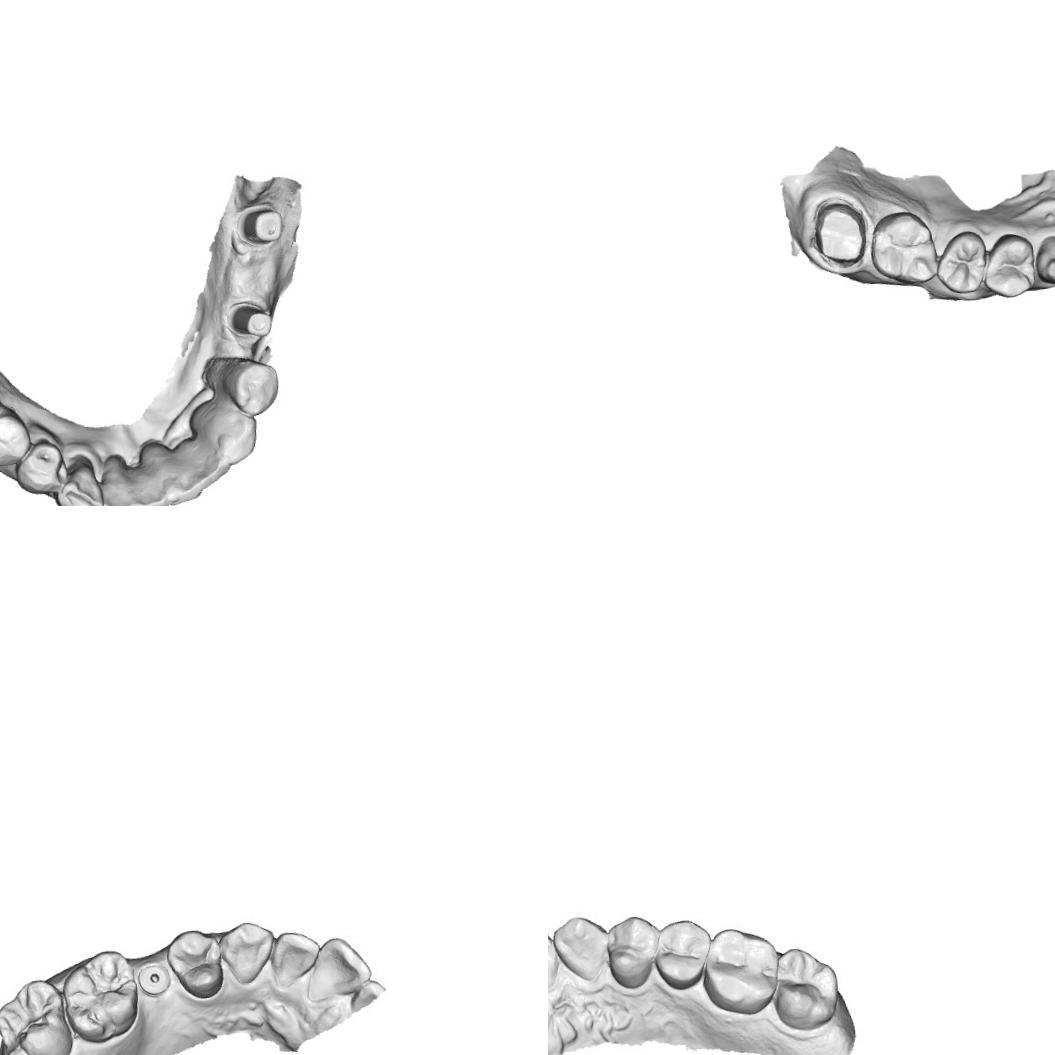abutment: (237, 200, 287, 248), (223, 296, 277, 340)
canine: (548, 910, 610, 981), (195, 402, 260, 468), (220, 922, 273, 986), (51, 458, 109, 506), (1032, 230, 1055, 288)
crown: (807, 196, 875, 269)
implant: (136, 958, 175, 1001)
incisor: (306, 932, 373, 1002), (171, 433, 234, 499), (95, 448, 147, 506), (270, 928, 321, 987), (158, 449, 203, 506), (126, 467, 175, 506)
molar: (696, 924, 782, 1018), (62, 950, 140, 1043), (767, 942, 842, 1033), (0, 973, 76, 1055), (865, 206, 939, 290)
premolar: (648, 914, 712, 993), (163, 924, 227, 1000), (602, 912, 660, 990), (978, 230, 1038, 302), (217, 356, 282, 420), (932, 228, 990, 296), (10, 436, 69, 498), (0, 407, 33, 472)
